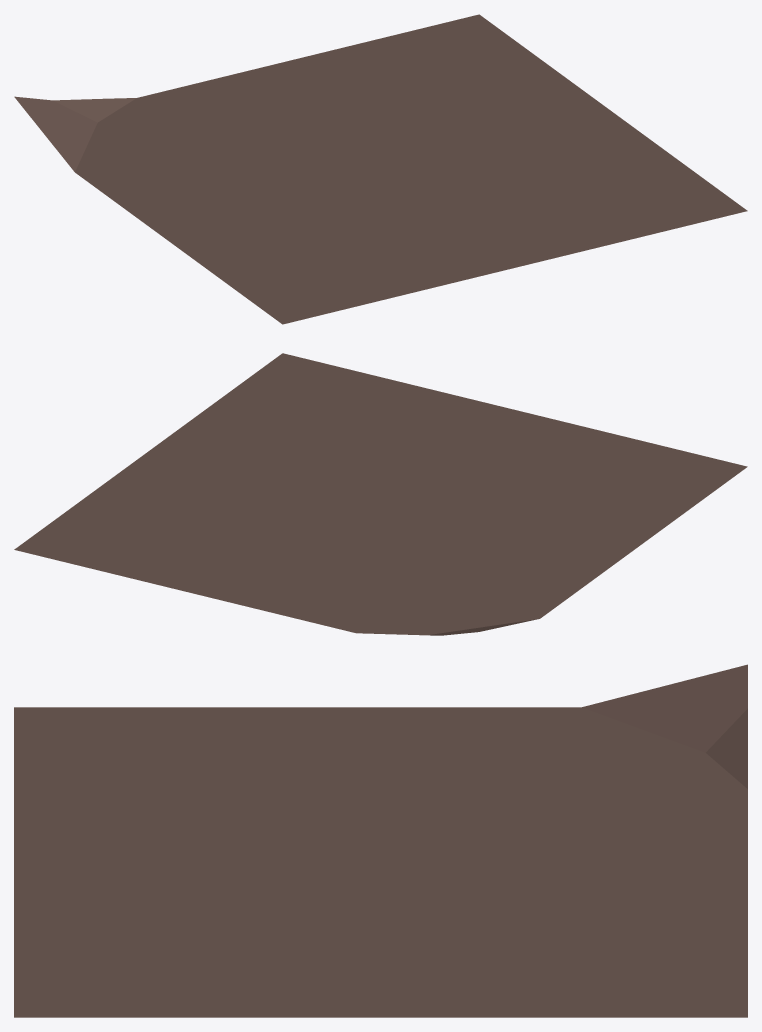
File: cell_056.obj
3 views of the same model, one above another, from view 1: azimuth 30°, elevation 25°; view 2: azimuth 150°, elevation 25°; view 3: azimuth 270°, elevation 25° (orthographic). The views are drawn at different scales.
Size of the model in its own units: 1 by 0.0644 by 1.
